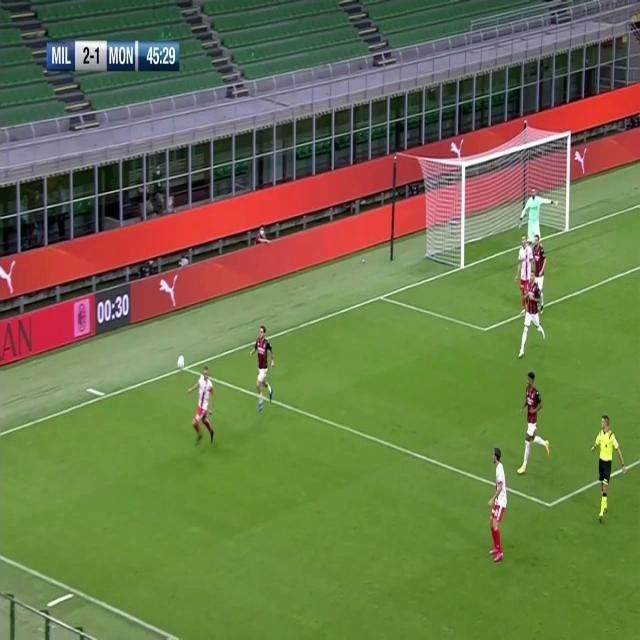ball: (176, 353, 186, 372)
goalkeeper: (518, 185, 556, 236)
player: (517, 372, 550, 474), (483, 448, 508, 562), (187, 363, 217, 448), (250, 324, 278, 411), (517, 270, 544, 359), (531, 234, 547, 309), (517, 236, 531, 312)
referee: (591, 409, 628, 525)
